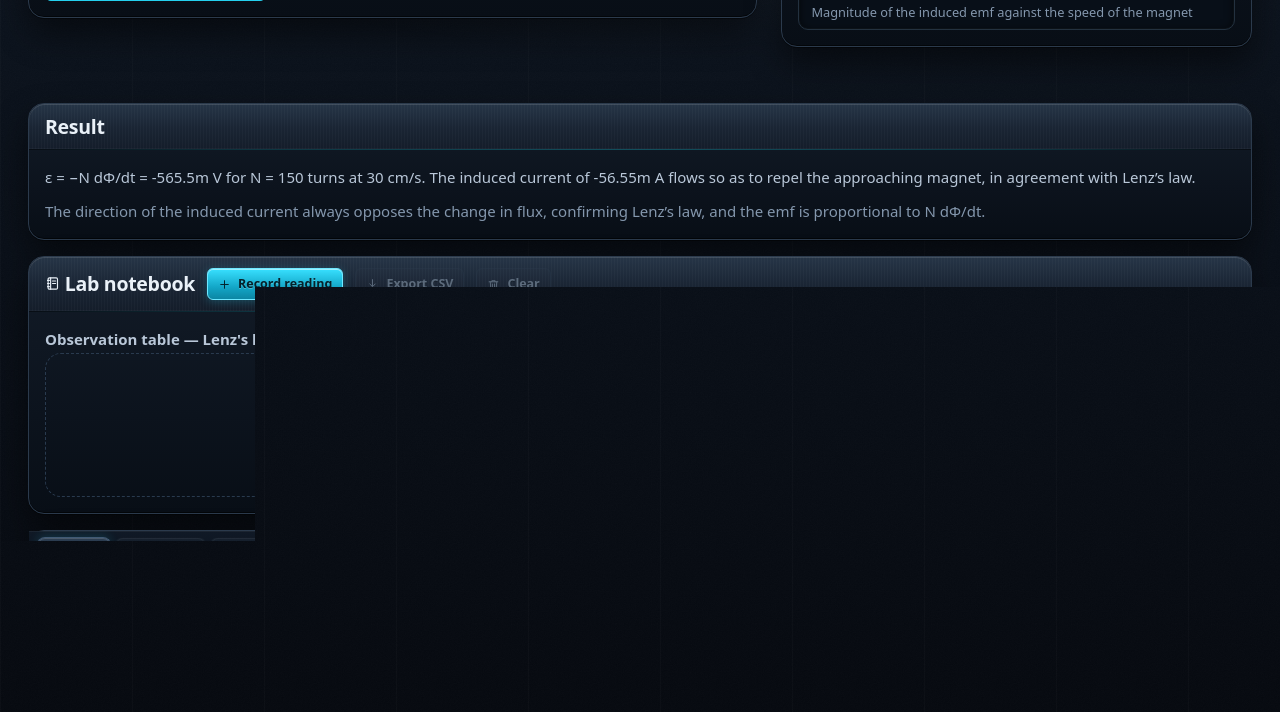
Test case: lenzs-law › records a trial in the notebook and clears it again
(page scrolled)
Click the button "Record reading": x=275, y=284 [207,268,343,300]
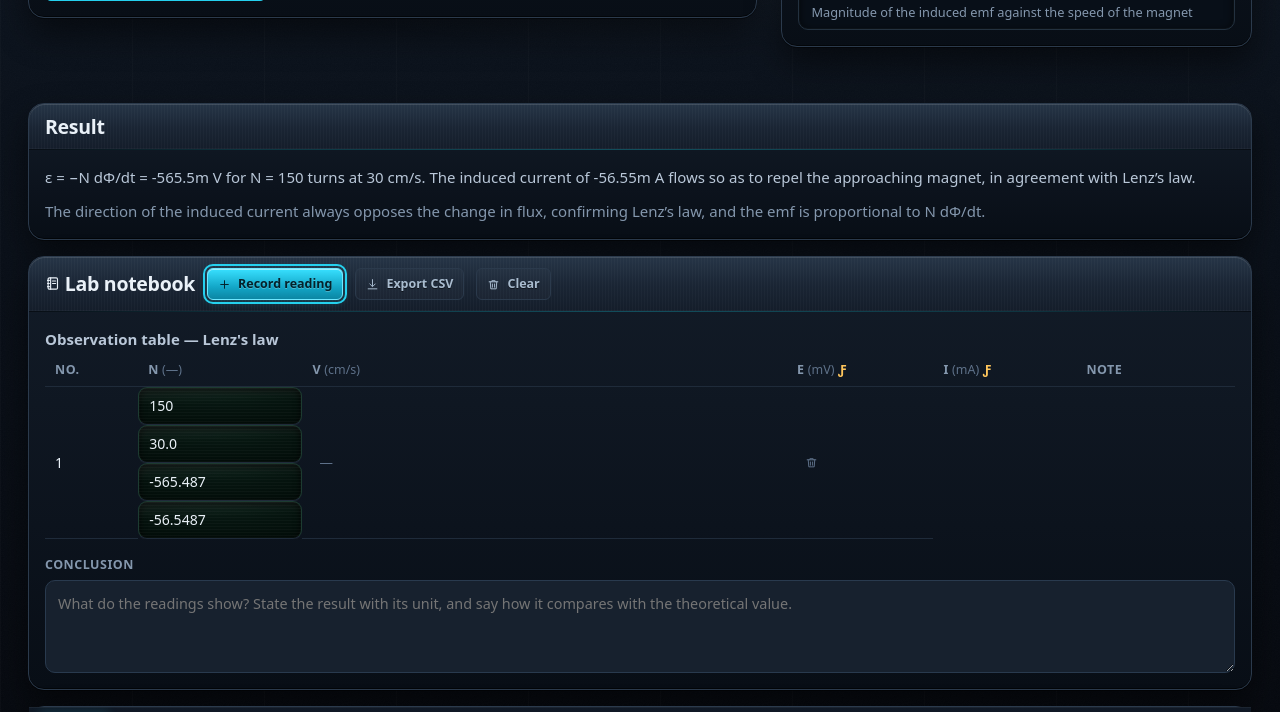
Click the button "Clear": x=514, y=284 [476,268,551,300]
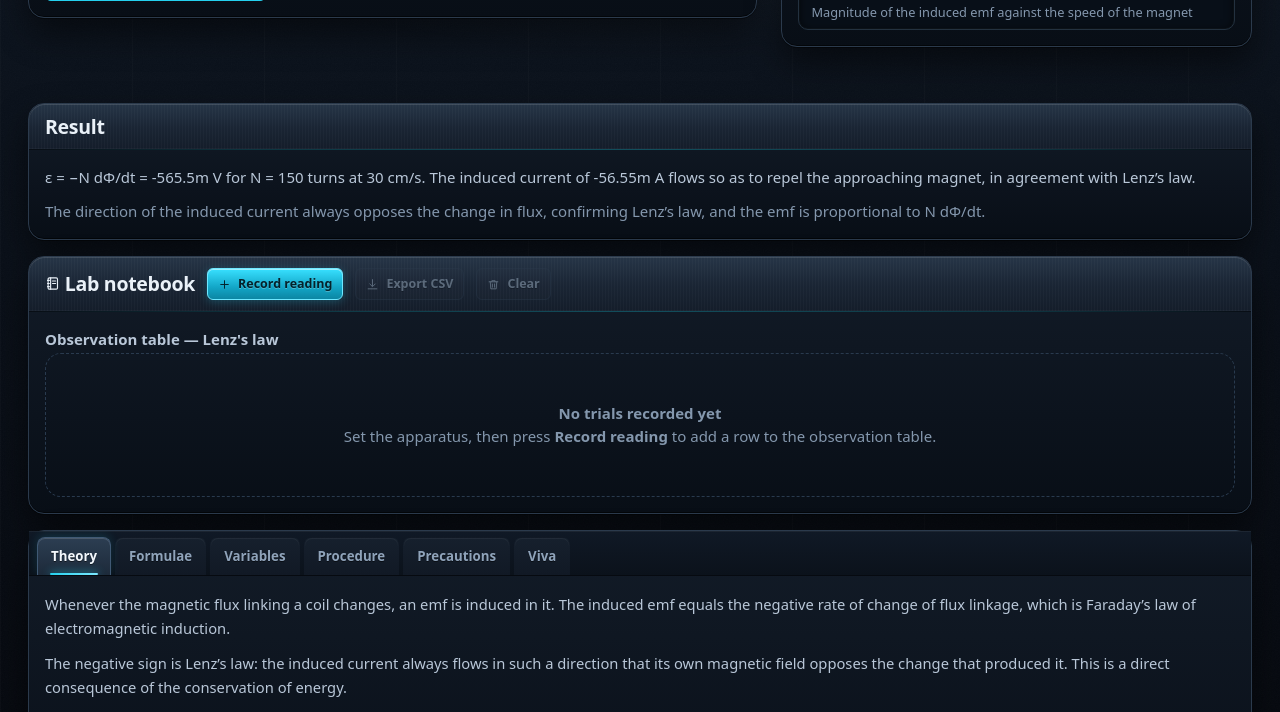
Check: the table is gone
